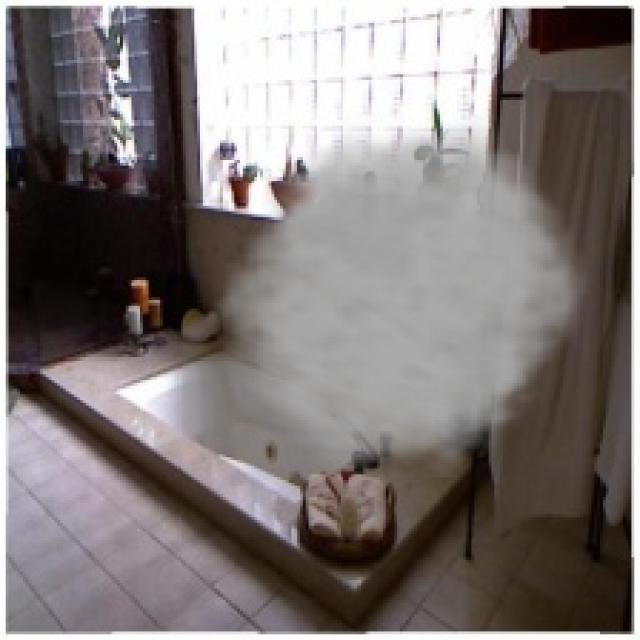Smoke: (202, 109, 598, 478)
